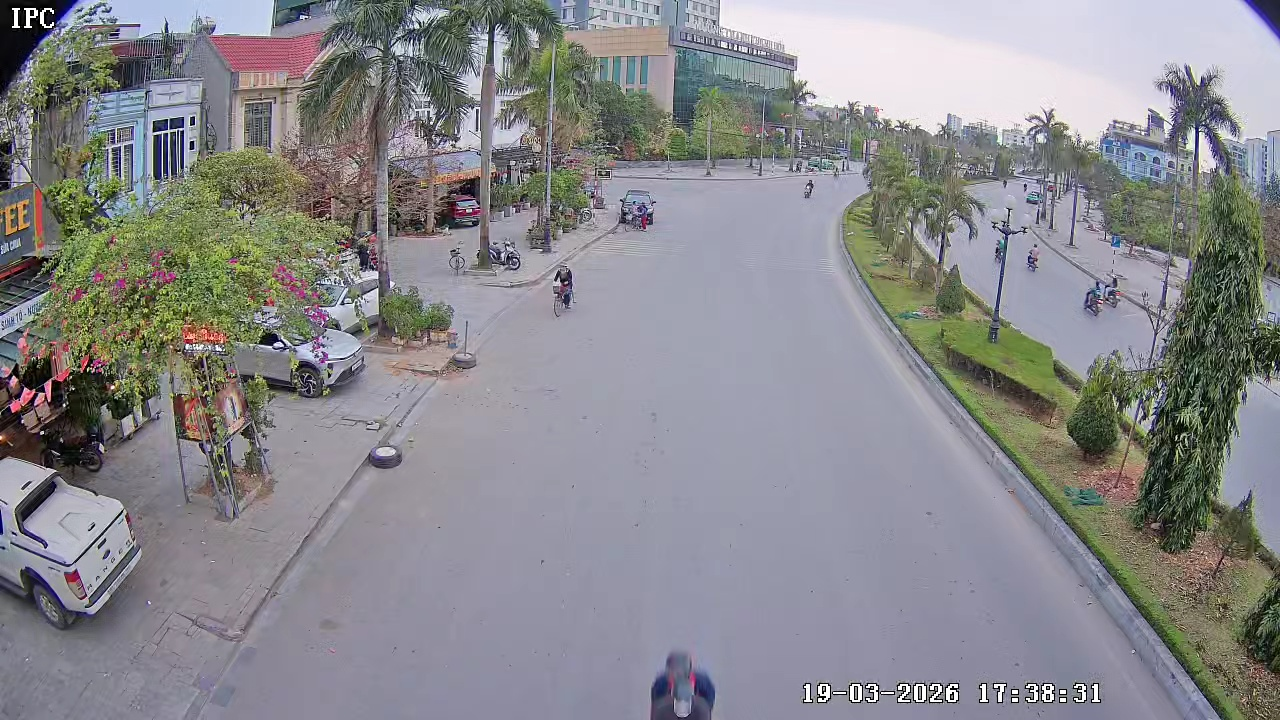car: (0, 473, 142, 629)
motorbike: (616, 187, 656, 231), (550, 263, 576, 318), (801, 171, 817, 200)
truck: (615, 188, 656, 230)
